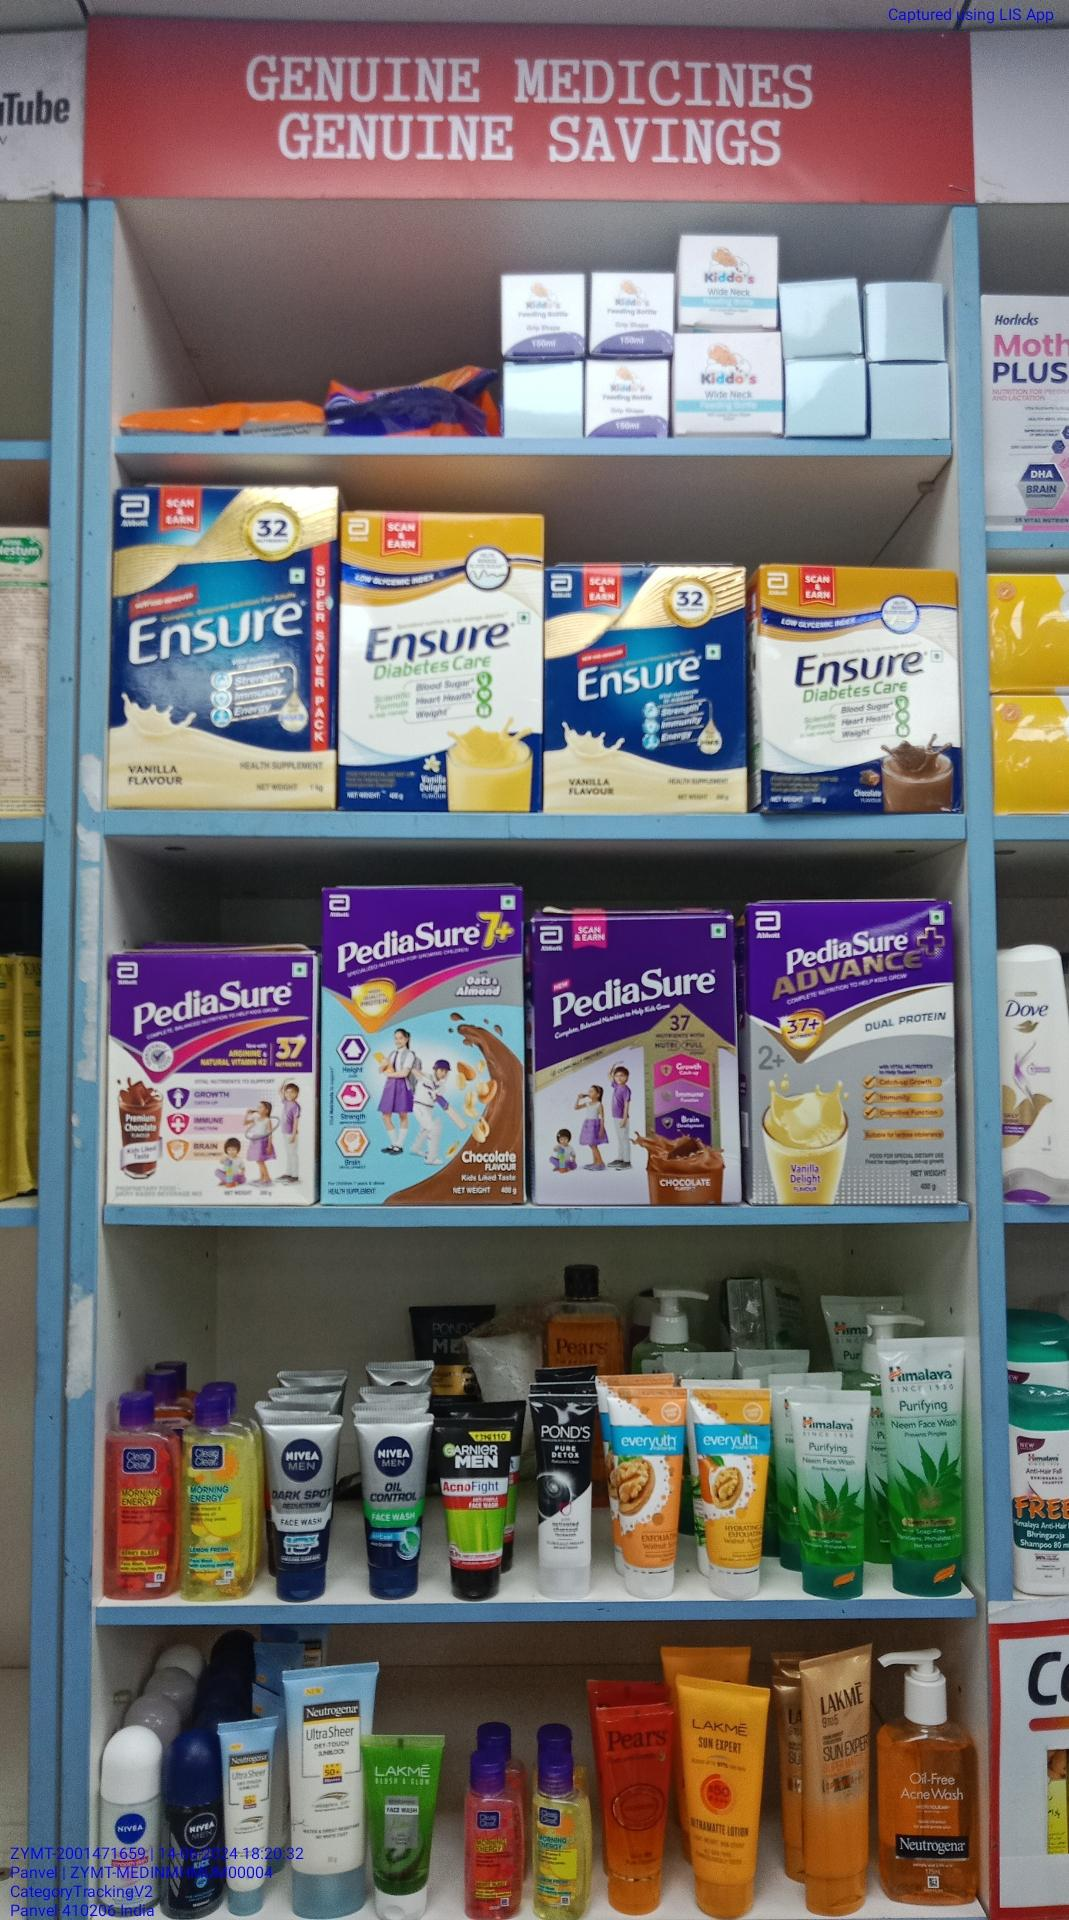ENSURE_VANILLA_400_G_PACK: (544, 566, 748, 815)
PEDIASURE_7_PLUS_CHOCOLATE_400_G_PACK: (323, 884, 529, 1204)
PEDIASURE_CHOCOLATE_500_G_PACK: (527, 917, 741, 1200)
